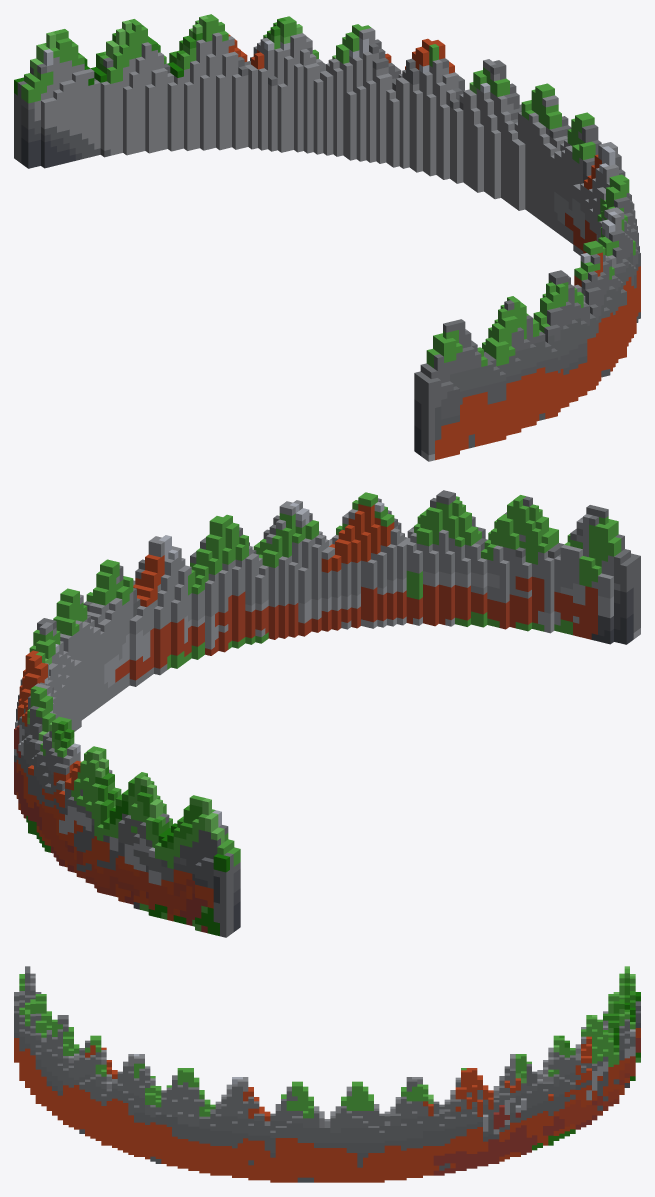
File: trap_L.FBX
3 renders of one model, top to bottom at view 1: azimuth 30°, elevation 25°; view 2: azimuth 150°, elevation 25°; view 3: azimuth 270°, elevation 25°, orthographic. The views are drawn at different scales.
Parts seen in each view (by area): view 1: default029; view 2: default029; view 3: default029.
Part boxes in pixels (x1,y1,x2,y2): default029: (14, 14, 640, 461); default029: (14, 490, 640, 937); default029: (14, 966, 640, 1182).
Size of the model in its own units: 723 by 241 by 1459.
